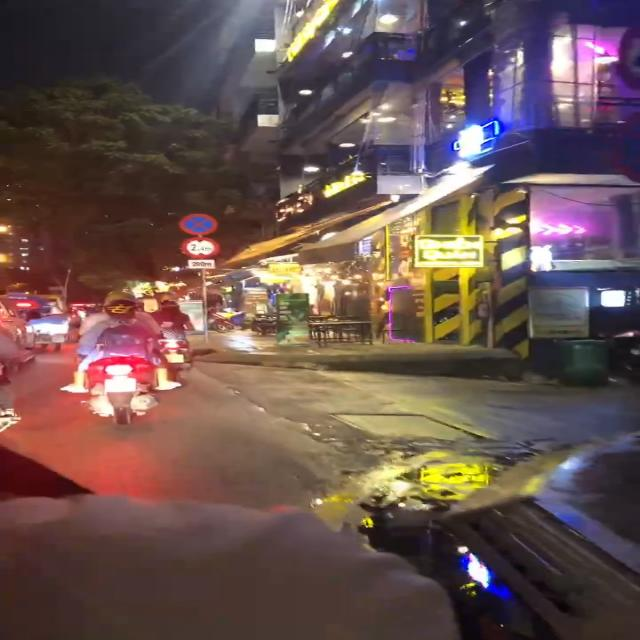Bien bao cam dung xe va do xe: (174, 212, 222, 235)
Bien bao han che chieu cao: (179, 236, 220, 258)
